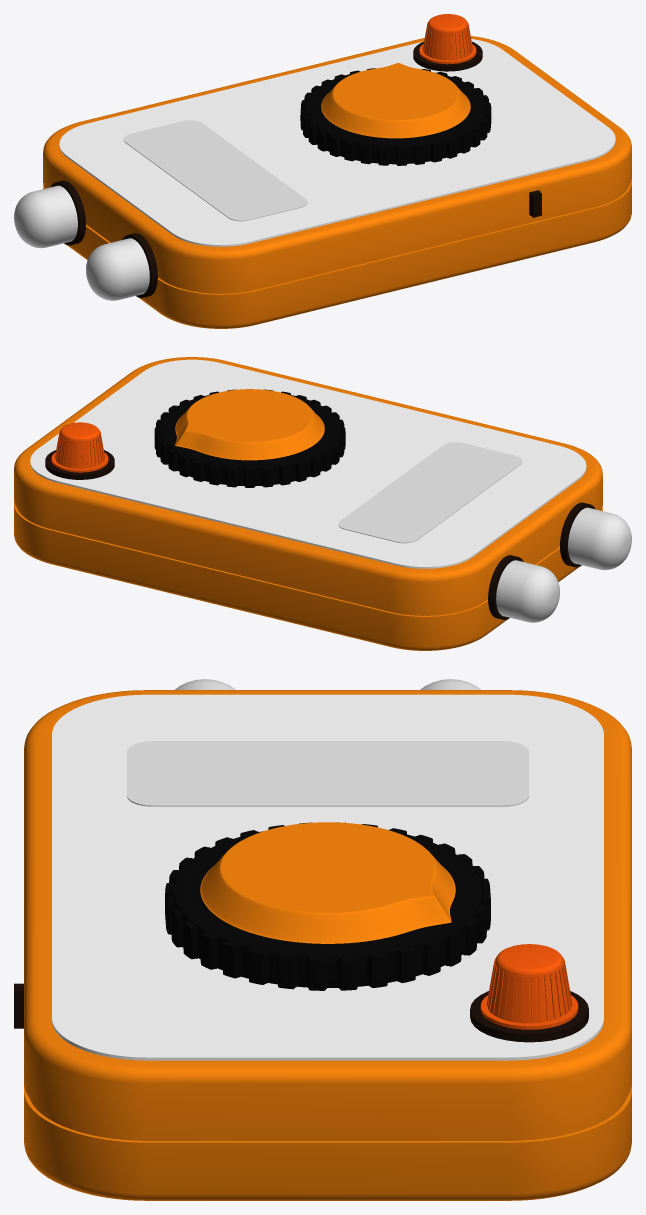
Rendered from Timescale.fbx.
3 renders of one model, top to bottom at view 1: azimuth 30°, elevation 25°; view 2: azimuth 150°, elevation 25°; view 3: azimuth 270°, elevation 25°, orthographic. The views are drawn at different scales.
Visible parts, largest first — view 1: Base Body, Dail, Screen, ChronoLED, Fuse Holder Cap, Fuse Holder Base; view 2: Base Body, Dail, Screen, ChronoLED, Fuse Holder Cap, Fuse Holder Base; view 3: Base Body, Dail, Screen, Fuse Holder Cap, Fuse Holder Base, ChronoLED.
Boxes of the visible parts, <box> form: Base Body: <box>43,36,631,328</box>; Dail: <box>300,63,491,165</box>; Screen: <box>123,120,307,221</box>; ChronoLED: <box>14,180,157,300</box>; Fuse Holder Cap: <box>419,14,476,64</box>; Fuse Holder Base: <box>413,41,482,71</box>; Base Body: <box>14,357,602,650</box>; Dail: <box>154,389,345,487</box>; Screen: <box>338,442,522,543</box>; ChronoLED: <box>488,502,631,622</box>; Fuse Holder Cap: <box>51,422,108,472</box>; Fuse Holder Base: <box>45,450,114,479</box>; Base Body: <box>14,690,631,1200</box>; Dail: <box>165,822,490,990</box>; Screen: <box>127,741,528,806</box>; Fuse Holder Cap: <box>480,944,578,1029</box>; Fuse Holder Base: <box>470,991,588,1042</box>; ChronoLED: <box>175,679,480,689</box>.
Size of the model in its own units: 1329 by 284 by 811.
